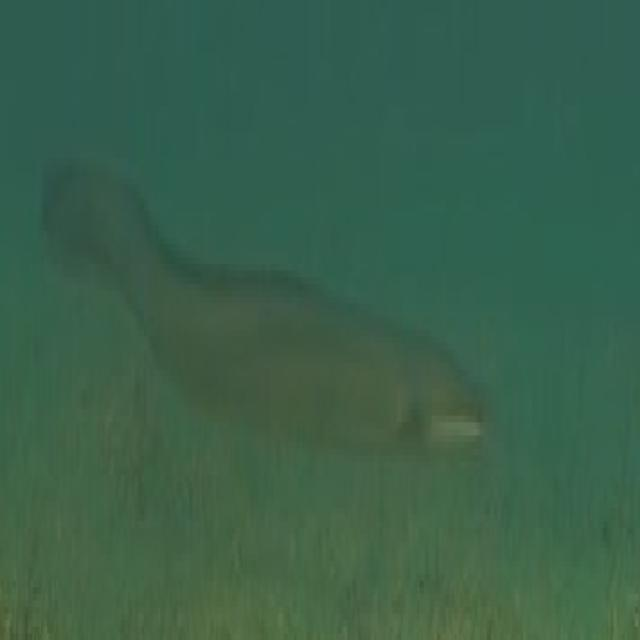Freshwater-Eel: (5, 46, 514, 559)
